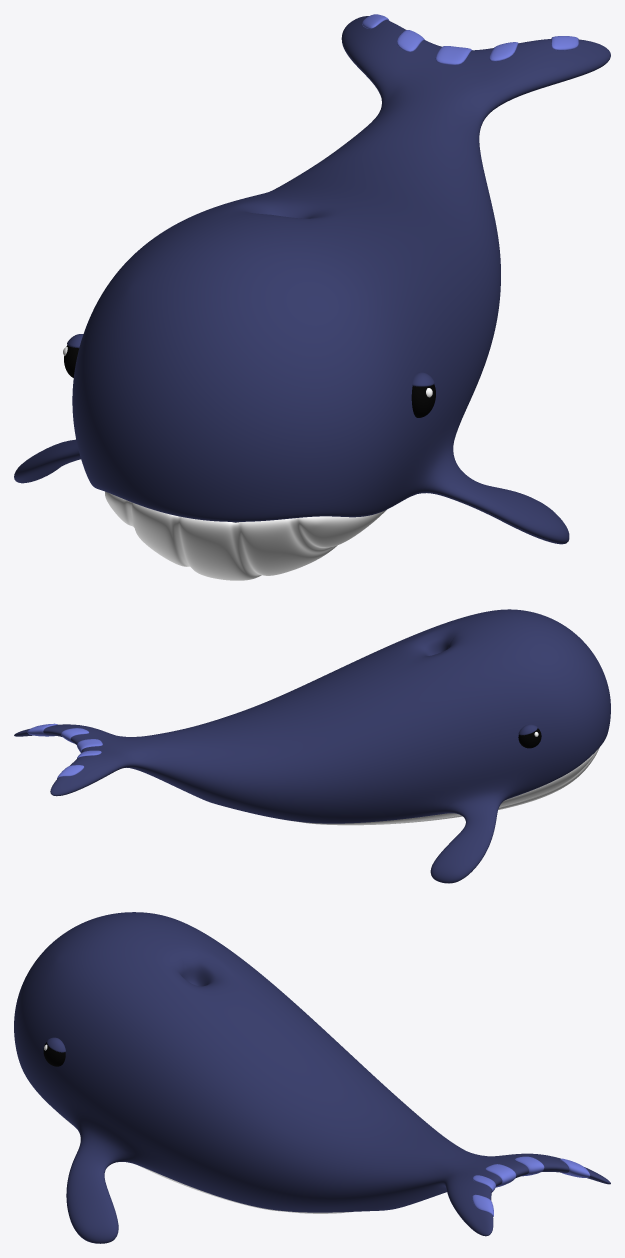
Rendered from BowheadWhale.glb.
3 renders of one model, top to bottom at view 1: azimuth 30°, elevation 25°; view 2: azimuth 150°, elevation 25°; view 3: azimuth 270°, elevation 25°, orthographic. The views are drawn at different scales.
Parts seen in each view (by area): view 1: Cube.001, Cube.003, Sphere; view 2: Cube.001, Cube.003; view 3: Cube.001, Cube.003.
Boxes of the visible parts, <box> form: Cube.001: <box>14,16,610,580</box>; Cube.003: <box>362,14,578,64</box>; Sphere: <box>63,345,435,417</box>; Cube.001: <box>14,609,610,883</box>; Cube.003: <box>27,723,102,778</box>; Cube.001: <box>14,912,610,1243</box>; Cube.003: <box>472,1156,590,1216</box>.
Bounding box in the file's own units: 2.94 × 1.24 × 2.94.
